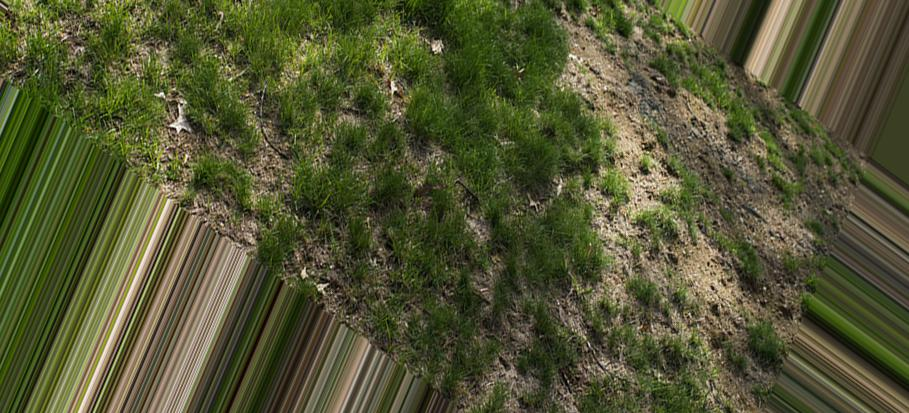patch: (606, 56, 754, 195), (656, 235, 749, 310)
